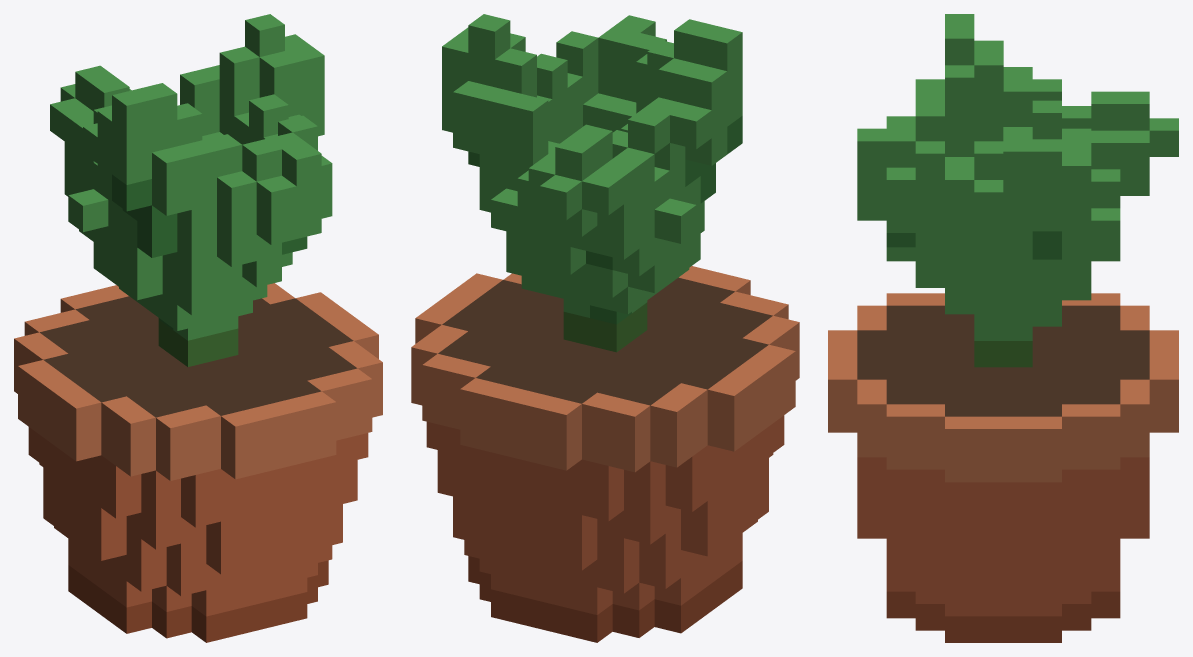
The model's file is potted-plant.glb.
3 renders of one model, left to right at view 1: azimuth 30°, elevation 25°; view 2: azimuth 150°, elevation 25°; view 3: azimuth 270°, elevation 25°, orthographic. The views are drawn at different scales.
Visible parts, largest first — view 1: prop; view 2: prop; view 3: prop.
Part boxes in pixels (bbox=[...]): prop: bbox=[14, 14, 382, 642]; prop: bbox=[411, 14, 799, 642]; prop: bbox=[828, 14, 1178, 642].
Bounding box in the file's own units: 9.6 × 16 × 9.6.
